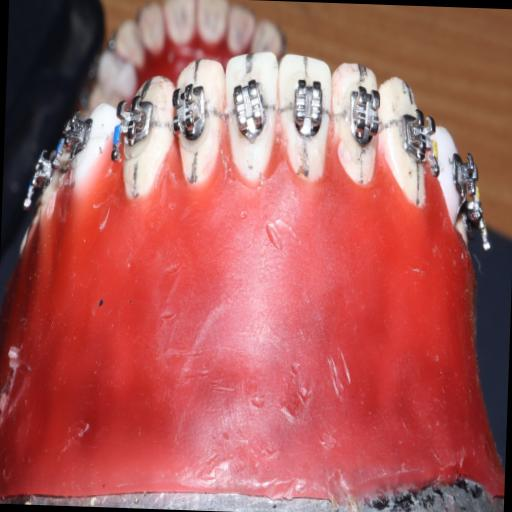incorrect_brace: (229, 80, 267, 138), (287, 75, 324, 134)
